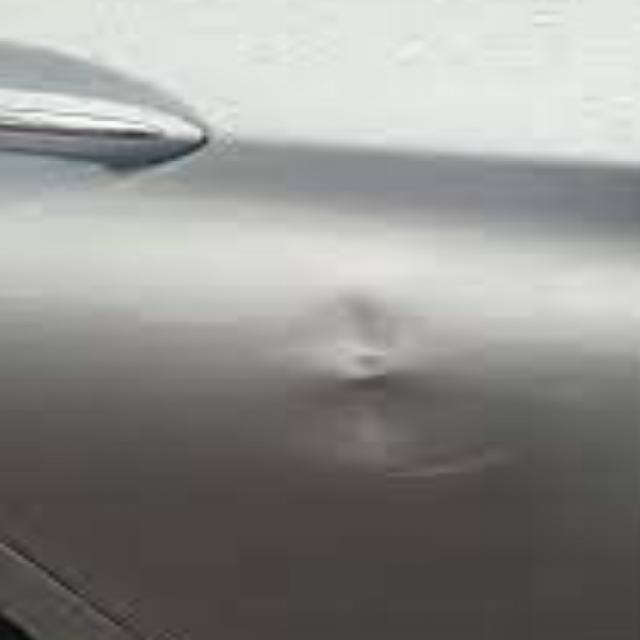dents: (296, 288, 535, 508)
